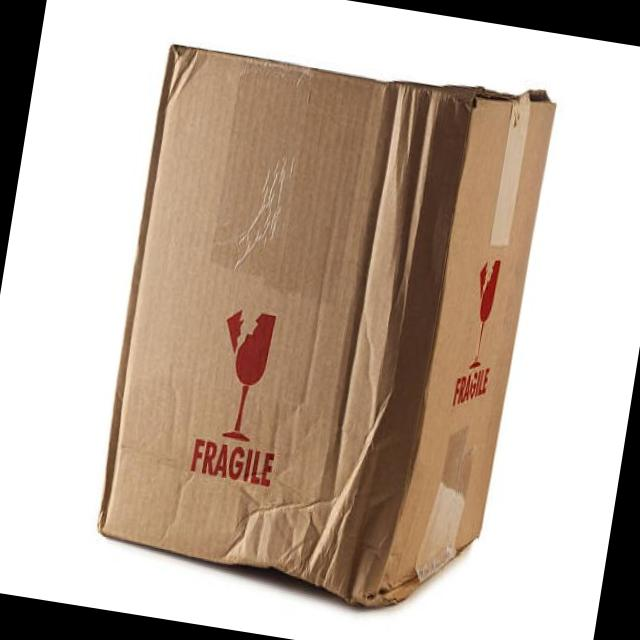box: (97, 51, 557, 603)
crushed: (99, 387, 420, 608), (162, 41, 209, 103)
